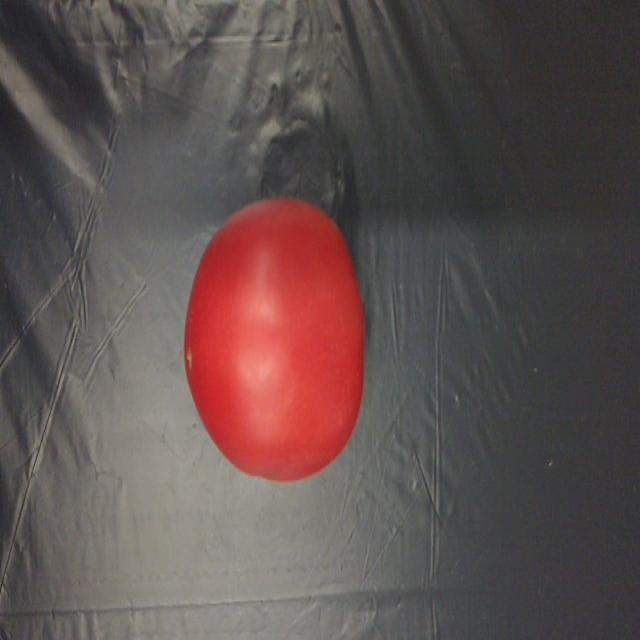kirmizi: (163, 196, 366, 484)
